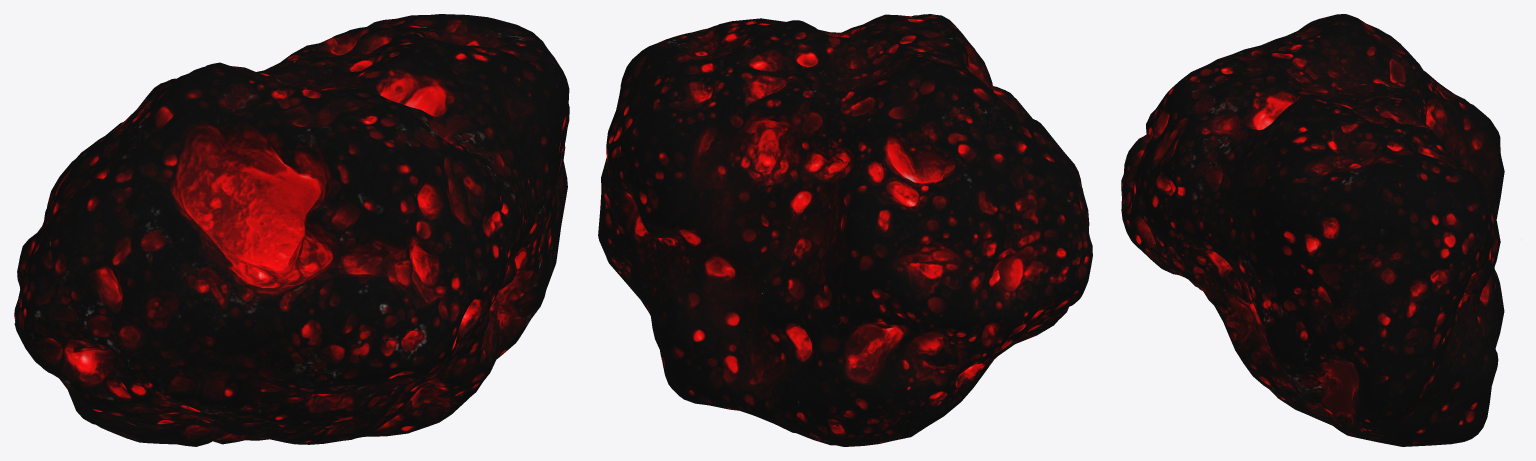
Rendered from meteorrrrrrrrrrrrr (2).glb.
3 views of the same model, side by side, from view 1: azimuth 30°, elevation 25°; view 2: azimuth 150°, elevation 25°; view 3: azimuth 270°, elevation 25° (orthographic). The views are drawn at different scales.
Visible parts, largest first — view 1: Object_2; view 2: Object_2; view 3: Object_2.
Boxes of the visible parts, x1,y1,x2,y2 form: Object_2: (14,14,569,446); Object_2: (598,14,1092,446); Object_2: (1121,14,1504,446).
Bounding box in the file's own units: 1785 × 1285 × 1348.
Materials: 2 (1 with a texture image).
